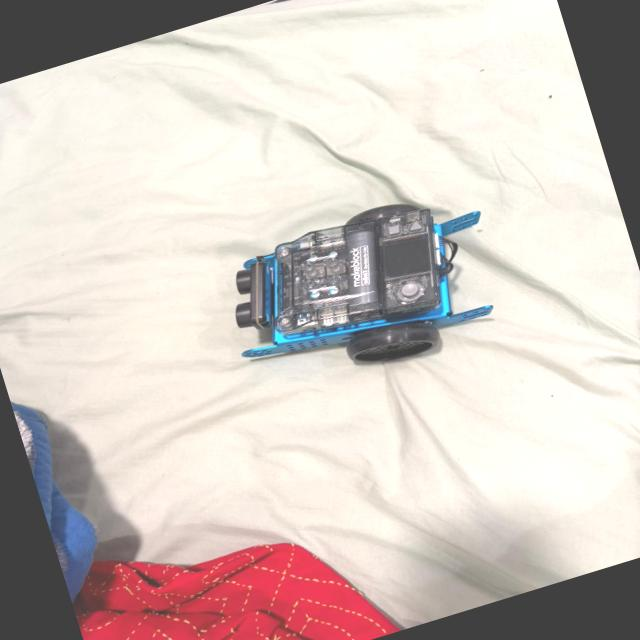mbot-detection: (203, 172, 520, 410)
